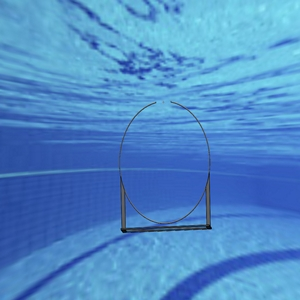circle: (116, 100, 214, 234)
